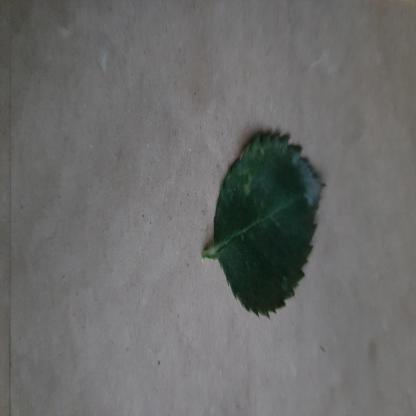powdery-mildew: (213, 130, 326, 324)
